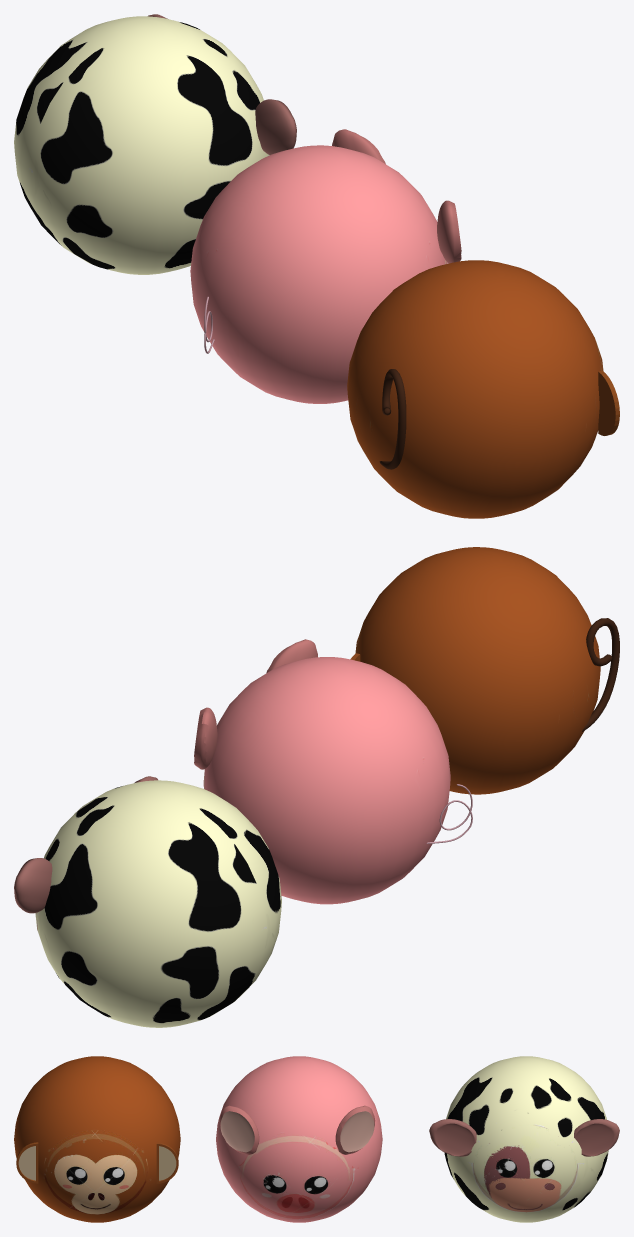
Rendered from ANIMALS.fbx.
3 renders of one model, top to bottom at view 1: azimuth 30°, elevation 25°; view 2: azimuth 150°, elevation 25°; view 3: azimuth 270°, elevation 25°, orthographic. The views are drawn at different scales.
Visible parts, largest first — view 1: monkeymate, cow, pink; view 2: cow, pink, monkeymate; view 3: cow, monkeymate, pink.
Boxes of the visible parts, box(x1,y1,x2,y2) form: monkeymate: box(347, 260, 619, 518); cow: box(14, 14, 296, 274); pink: box(190, 129, 461, 403); cow: box(14, 776, 281, 1027); pink: box(194, 639, 472, 904); monkeymate: box(350, 547, 619, 794); cow: box(429, 1056, 619, 1222); monkeymate: box(14, 1056, 180, 1222); pink: box(216, 1056, 382, 1222).
Bounding box in the file's own units: 508 × 463 × 1683.
